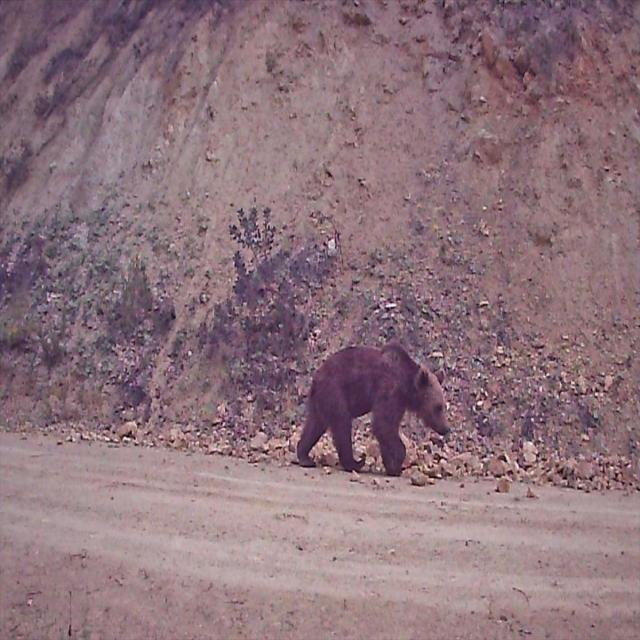Bear: (294, 344, 450, 479)
